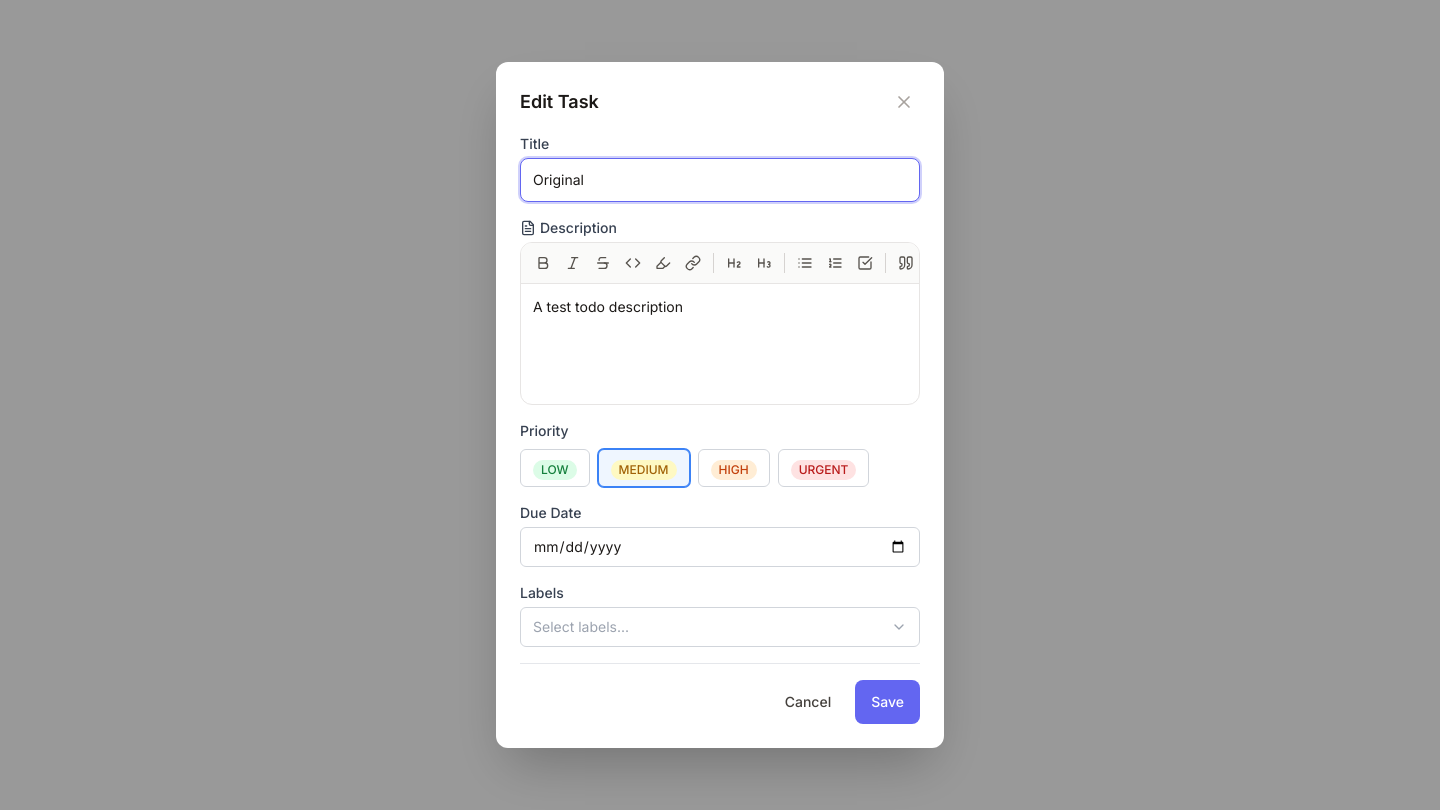
Test: TodoEditModal › save functionality › disables Save button when title is empty
Clear the field labelled "Title" at {"x": 720, "y": 180}, box [520,158,920,202]
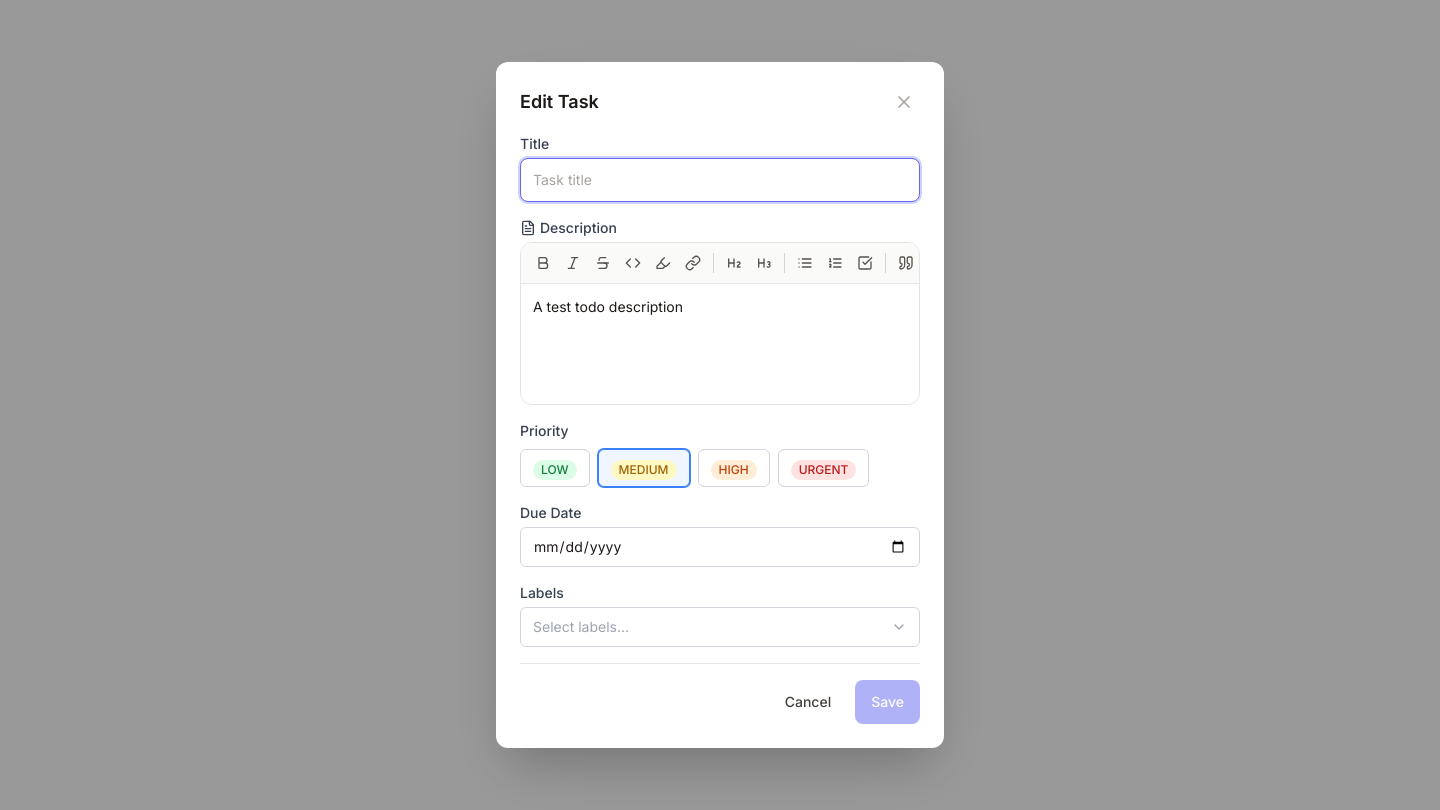
Now the button "Save" is disabled, box [855,680,920,724]
